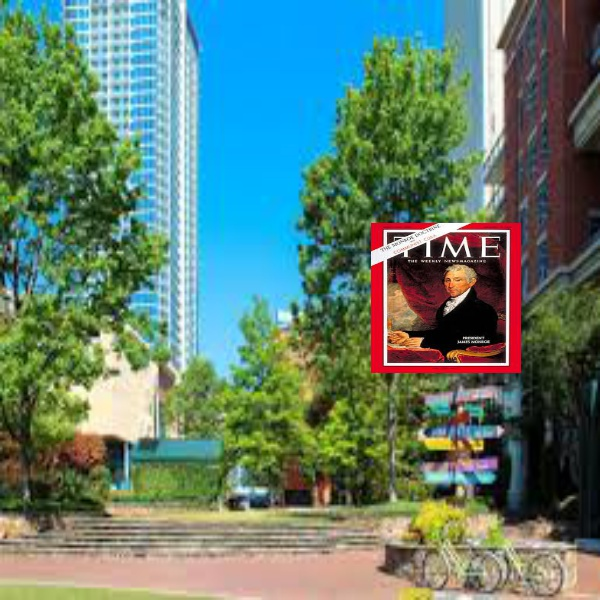time_cover: (364, 206, 533, 378)
